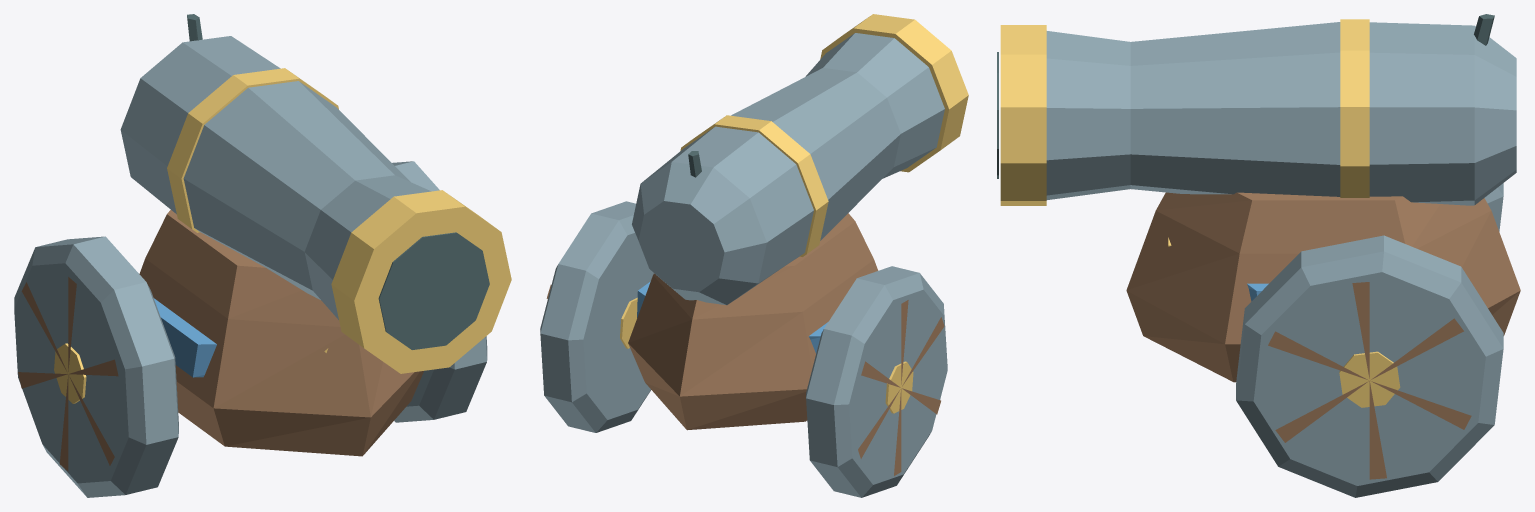
The model's file is cannon.glb.
3 renders of one model, left to right at view 1: azimuth 30°, elevation 25°; view 2: azimuth 150°, elevation 25°; view 3: azimuth 270°, elevation 25°, orthographic. The views are drawn at different scales.
Parts seen in each view (by area): view 1: body, wheelL, wheelR; view 2: body, wheelL, wheelR; view 3: body, wheelR.
Boxes of the visible parts, bbox=[...] form: body: bbox=[120, 14, 511, 456]; wheelL: bbox=[14, 236, 178, 497]; wheelR: bbox=[392, 161, 487, 422]; body: bbox=[628, 14, 968, 430]; wheelL: bbox=[806, 266, 947, 497]; wheelR: bbox=[540, 201, 653, 432]; body: bbox=[997, 14, 1520, 382]; wheelR: bbox=[1236, 235, 1503, 497].
Bounding box in the file's own units: 1.02 × 1.04 × 1.25.
